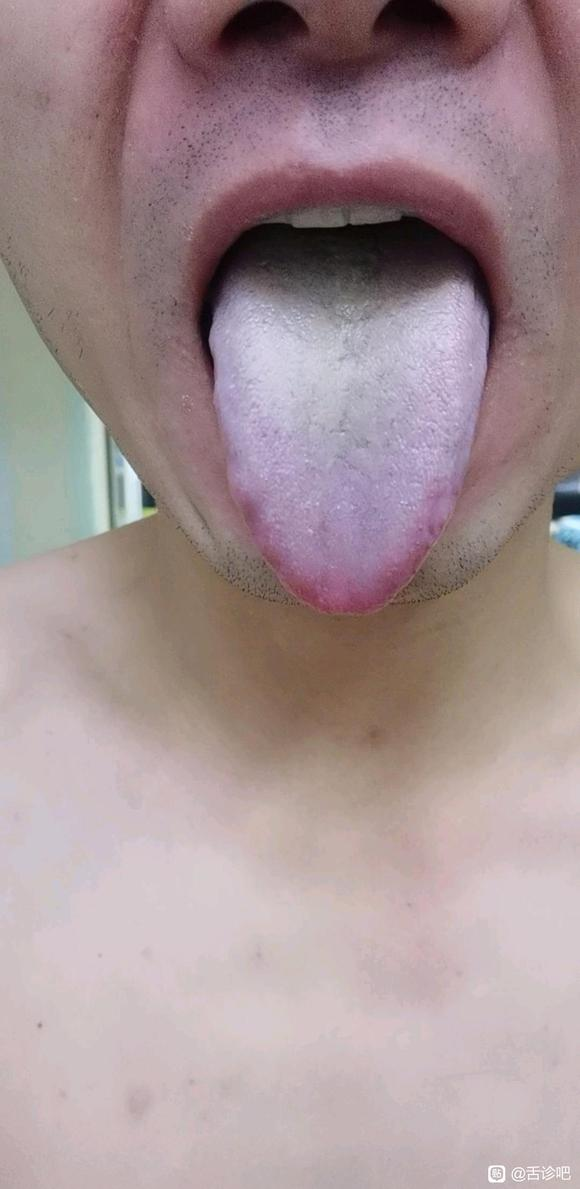baitaishe: (209, 227, 488, 613)
chihenshe: (209, 345, 266, 548)
